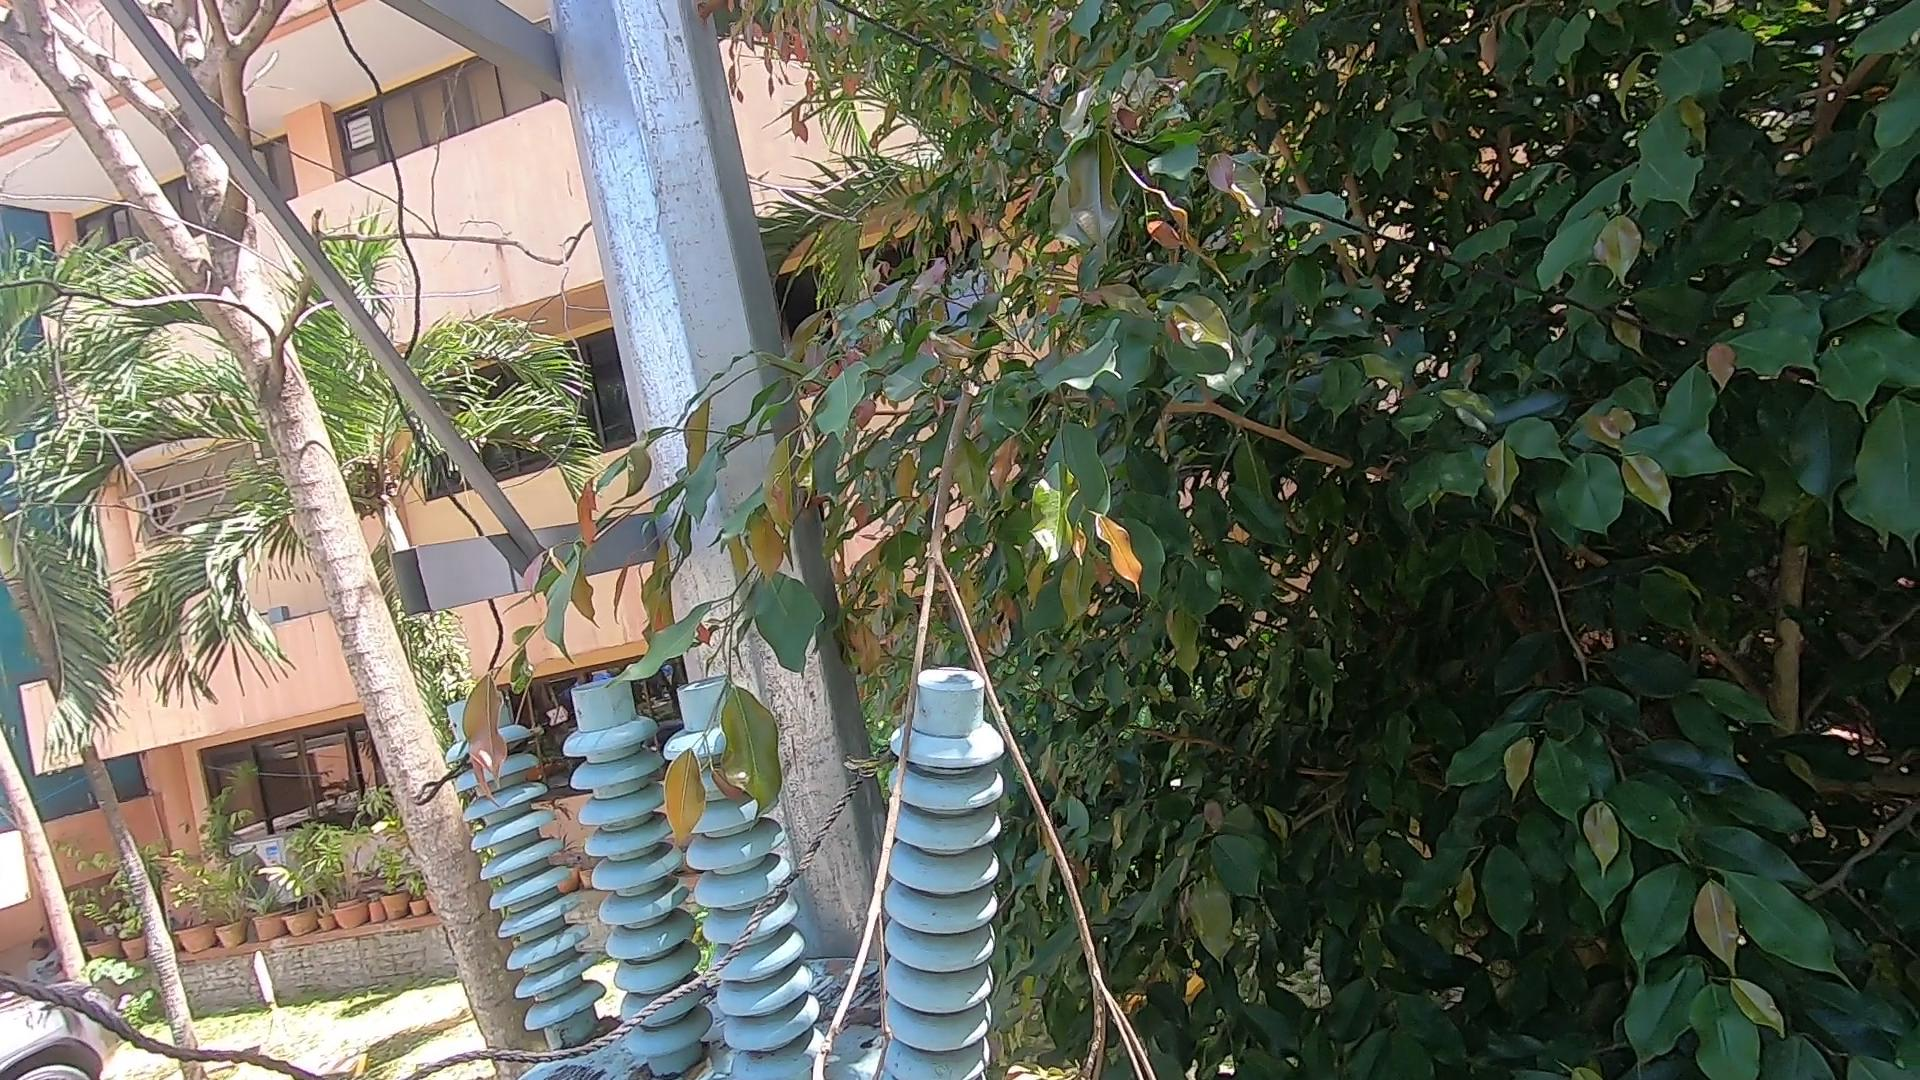tree branch: (815, 373, 1167, 1075)
